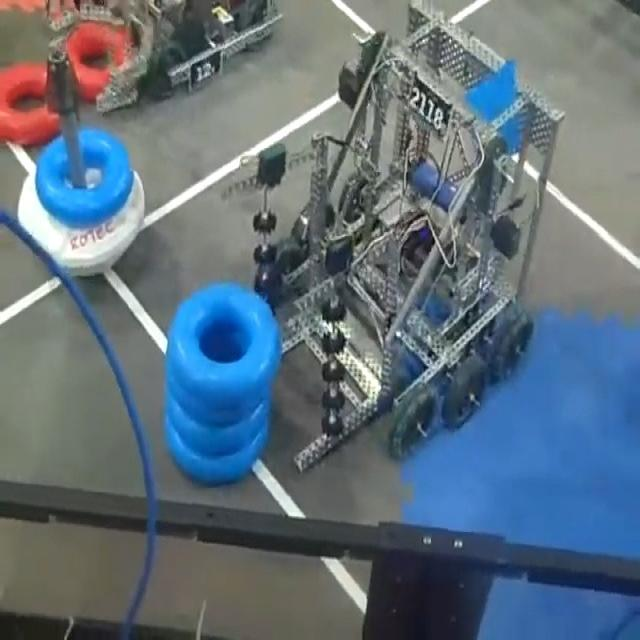Blue-Ring: (168, 283, 280, 408), (36, 130, 134, 228), (165, 416, 268, 484), (166, 393, 269, 457), (168, 374, 270, 425)
Red-Ring: (66, 22, 130, 99), (0, 63, 60, 144)
